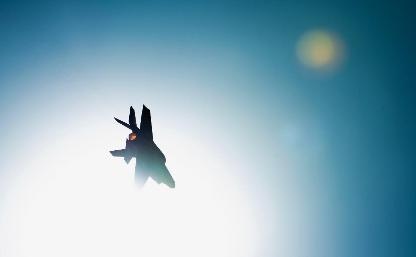F22: (109, 103, 175, 190)
